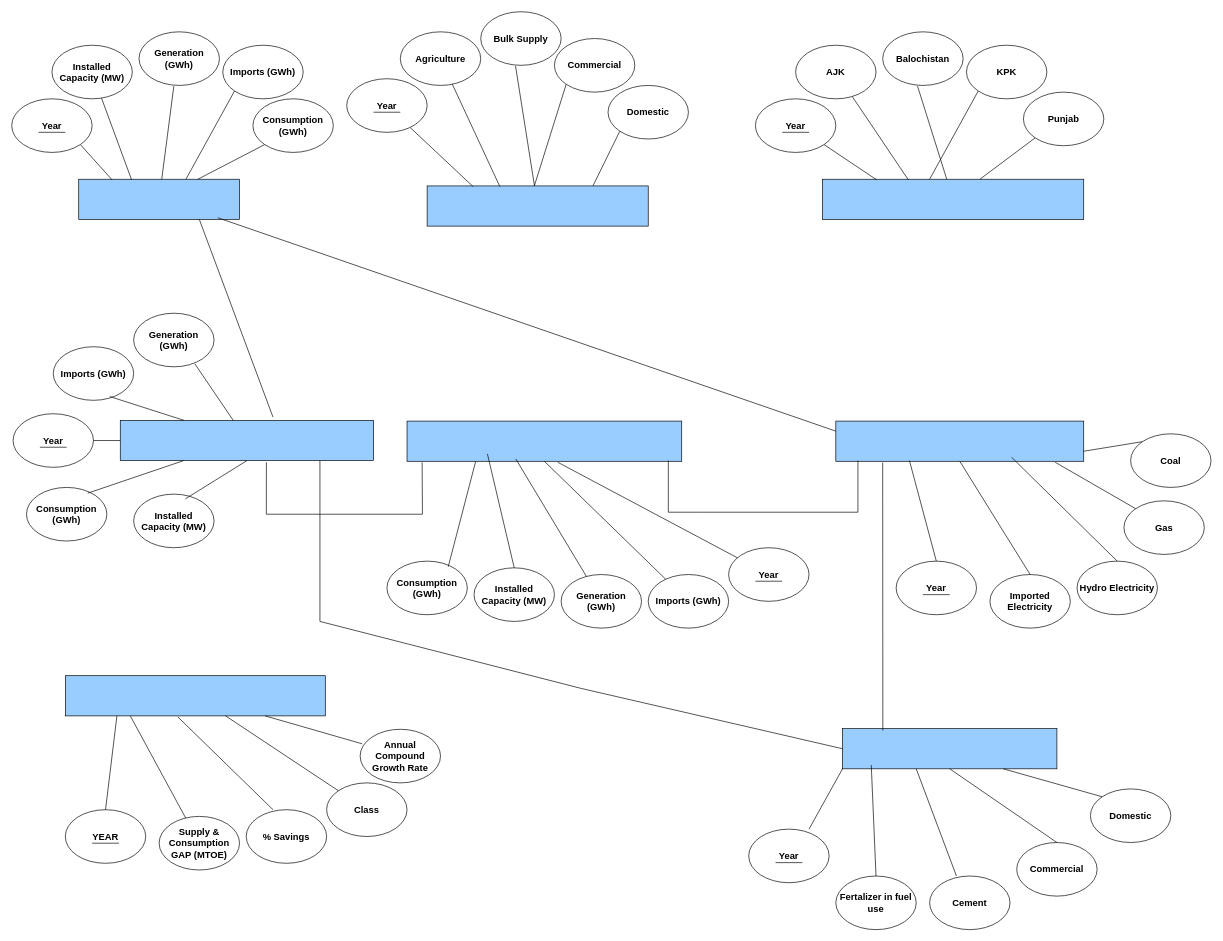
This 1223x941 diagram has some shape labels left out. Each missing label, with the box of its shape:
annual_electricity_data: (78, 179, 240, 219)
electrcicity_consumption_by_sector: (426, 185, 648, 226)
energy_supply_and_consumption_analyisis: (65, 675, 325, 716)
final_energy_consumption_by_source_toe: (120, 420, 374, 461)
natural_gas_production_and_consumption: (406, 420, 682, 461)
primary_energy_supplies_by_source_toe: (835, 420, 1084, 461)
province_wise_electricity_consumption_gwh: (822, 179, 1084, 219)
sector_wise_energy_consumption: (842, 728, 1057, 769)
